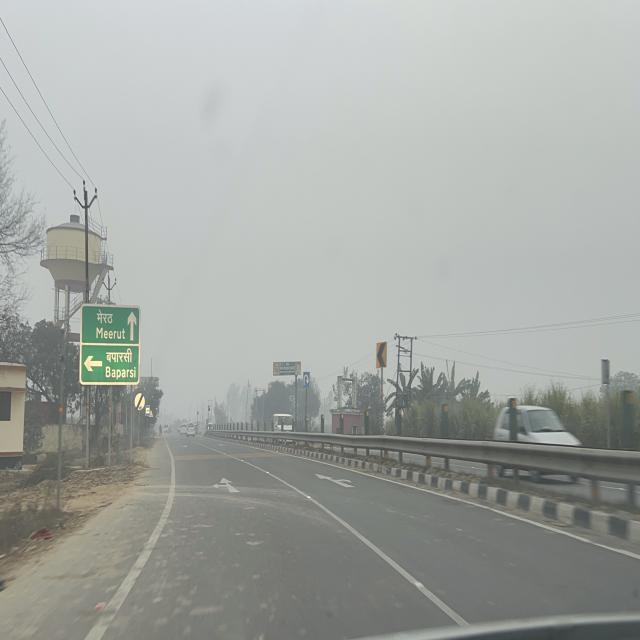GENERAL: (80, 304, 142, 386)
TURN_LEFT: (376, 342, 386, 368)
U_TURN: (303, 372, 310, 388)
